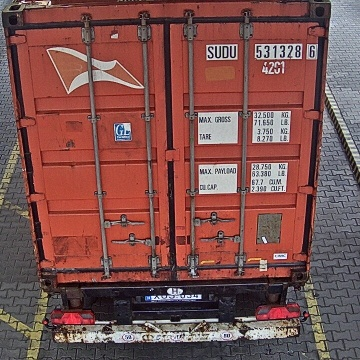serial_id: (206, 44, 316, 59)
